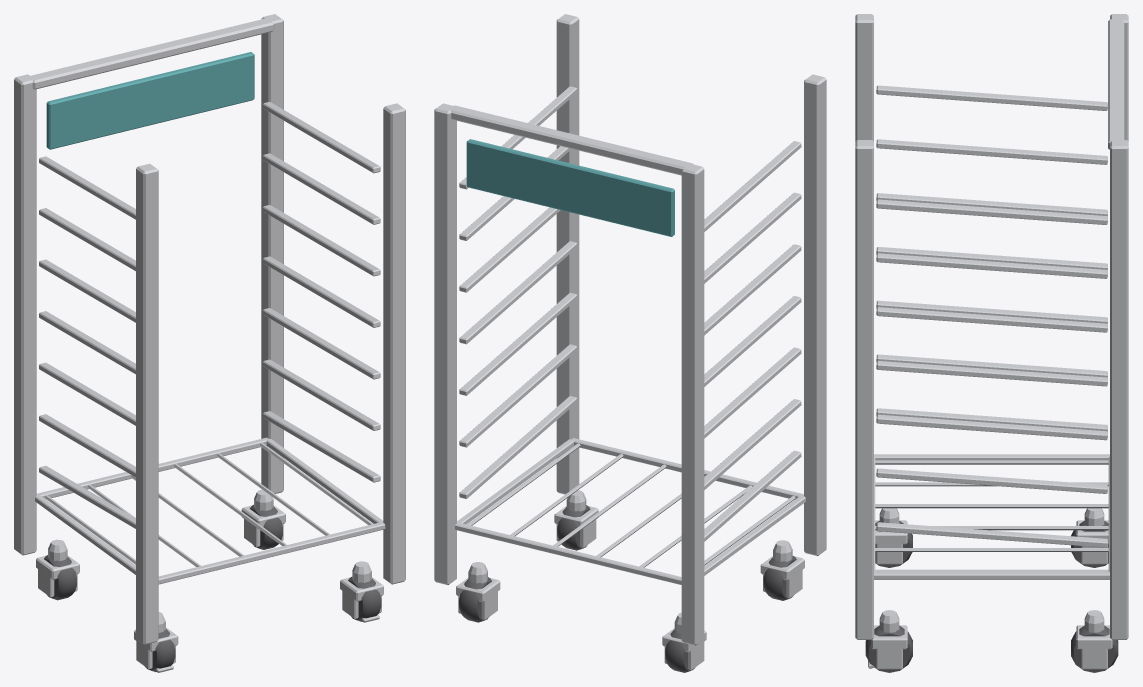
File: fast-food-and-drive-thru-tray-return-rack-cdc52898__16185.glb
3 renders of one model, left to right at view 1: azimuth 30°, elevation 25°; view 2: azimuth 150°, elevation 25°; view 3: azimuth 270°, elevation 25°, orthographic. The views are drawn at different scales.
Visible parts, largest first — view 1: tray-return-rack; view 2: tray-return-rack; view 3: tray-return-rack.
Part boxes in pixels (<box>): tray-return-rack: <box>14,14,405,672</box>; tray-return-rack: <box>434,14,826,672</box>; tray-return-rack: <box>855,14,1128,672</box>.
Size of the model in its own units: 0.587 by 1.1 by 0.507.
